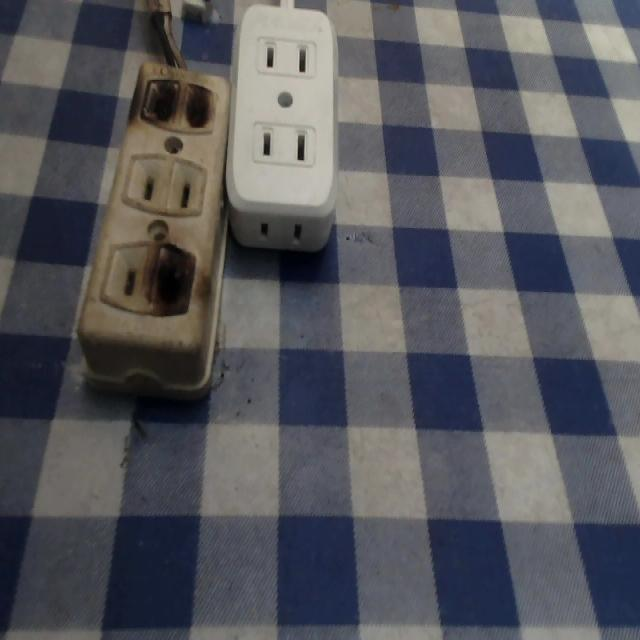-: (142, 71, 220, 140), (152, 243, 202, 324)
